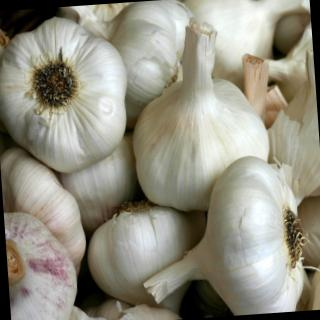Bawang Putih: (1, 11, 139, 177)
